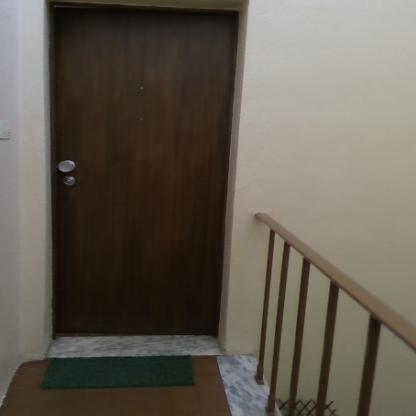door: (55, 4, 219, 334)
knob: (58, 158, 77, 174)
